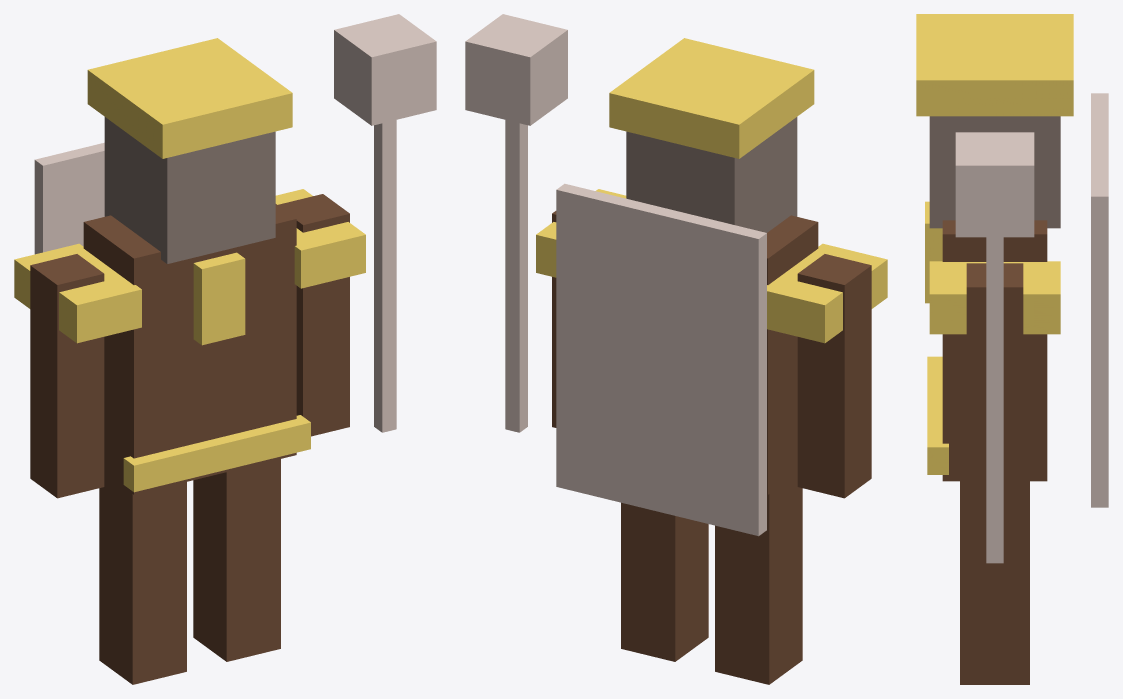
Rendered from 07_makoa_stormhush_archivist_under_elemental.glb.
3 renders of one model, left to right at view 1: azimuth 30°, elevation 25°; view 2: azimuth 150°, elevation 25°; view 3: azimuth 270°, elevation 25°, orthographic. The views are drawn at different scales.
Parts seen in each view (by area): view 1: Makoa Stormhush, Archivist under Elemental; view 2: Makoa Stormhush, Archivist under Elemental; view 3: Makoa Stormhush, Archivist under Elemental.
Part boxes in pixels (bbox=[...]): Makoa Stormhush, Archivist under Elemental: bbox=[14, 14, 436, 684]; Makoa Stormhush, Archivist under Elemental: bbox=[465, 14, 887, 684]; Makoa Stormhush, Archivist under Elemental: bbox=[916, 14, 1108, 684].
Size of the model in its own units: 0.9843 by 1.44 by 0.4184.
